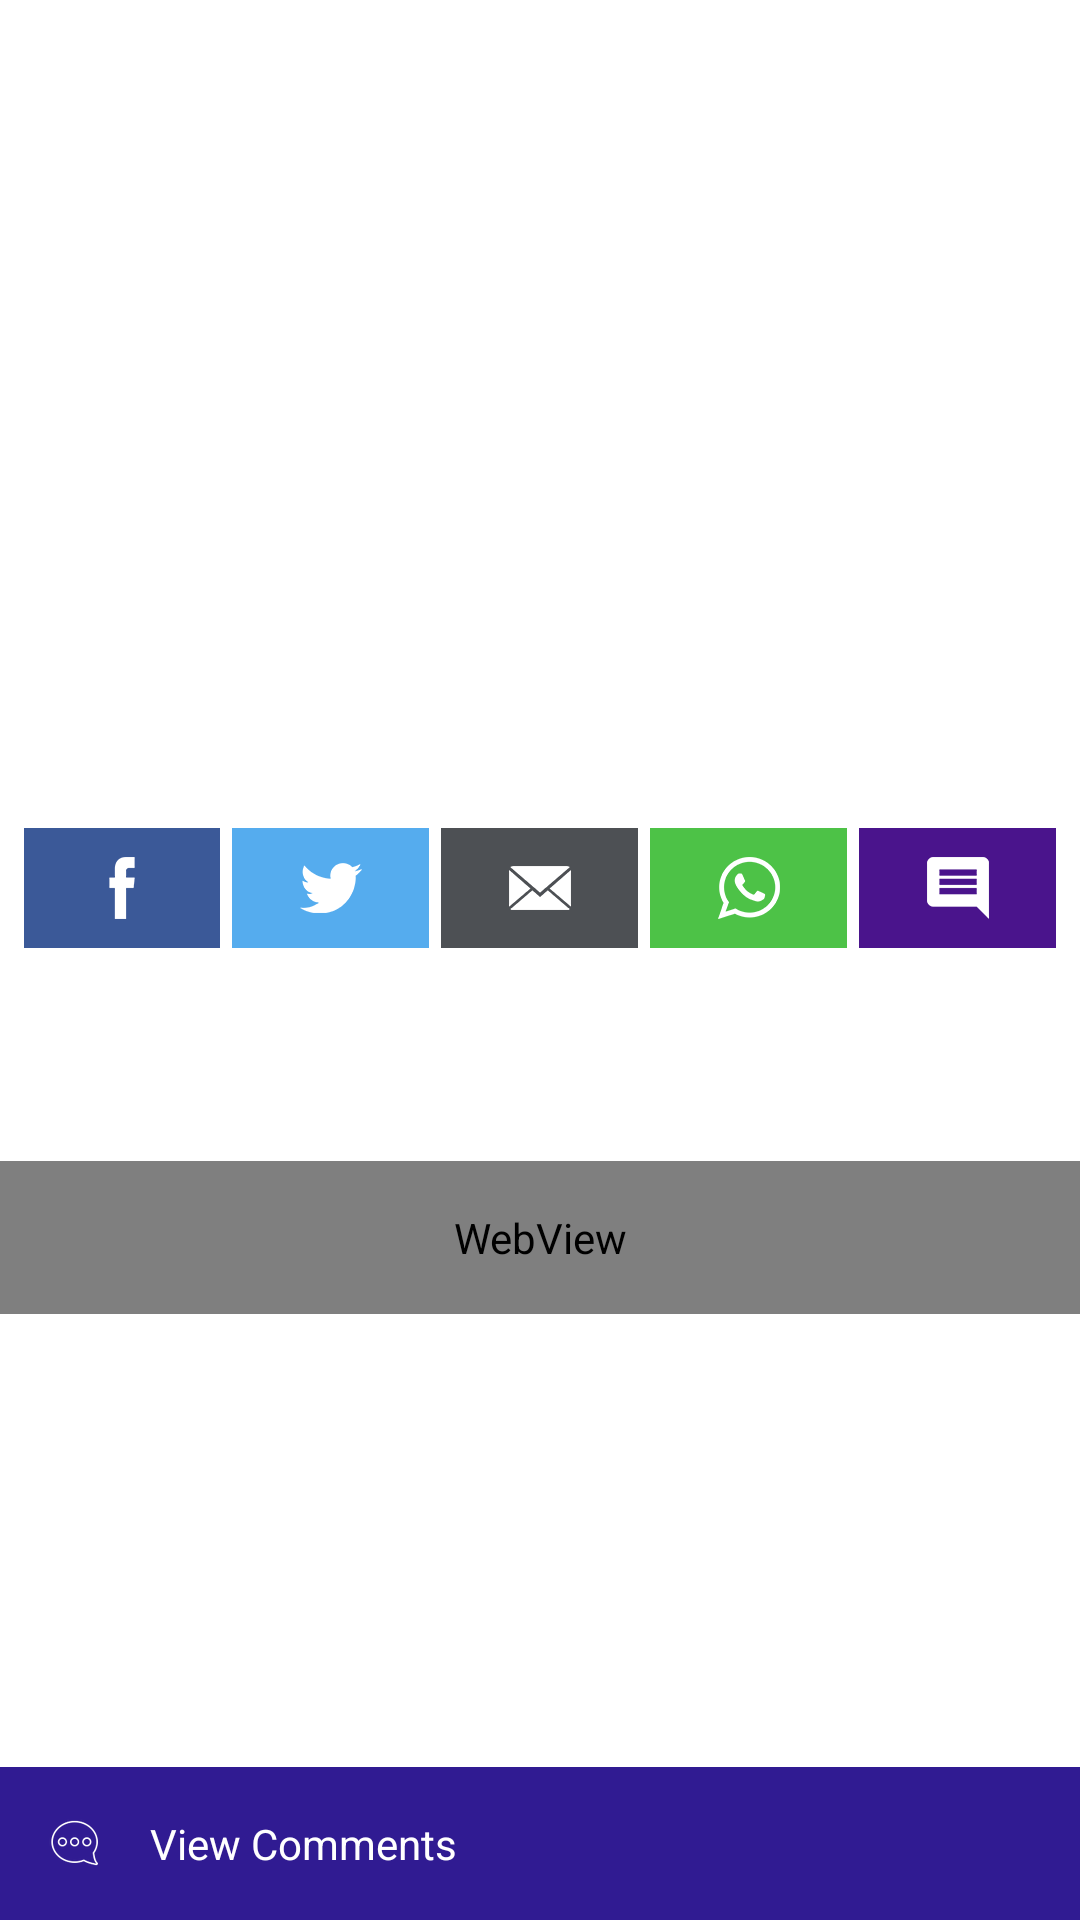

Where icons sit on this 1080 x 1920 app screen, as (x1, y1, x2, y2):
email: (441, 828, 638, 948)
message: (859, 828, 1056, 948)
